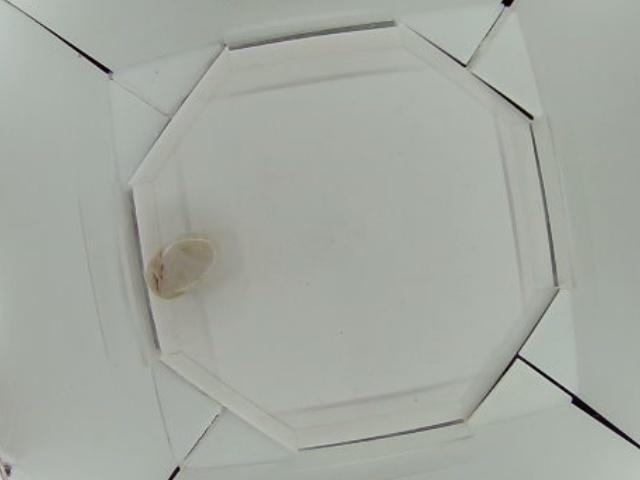Pebble: (145, 233, 213, 306)
